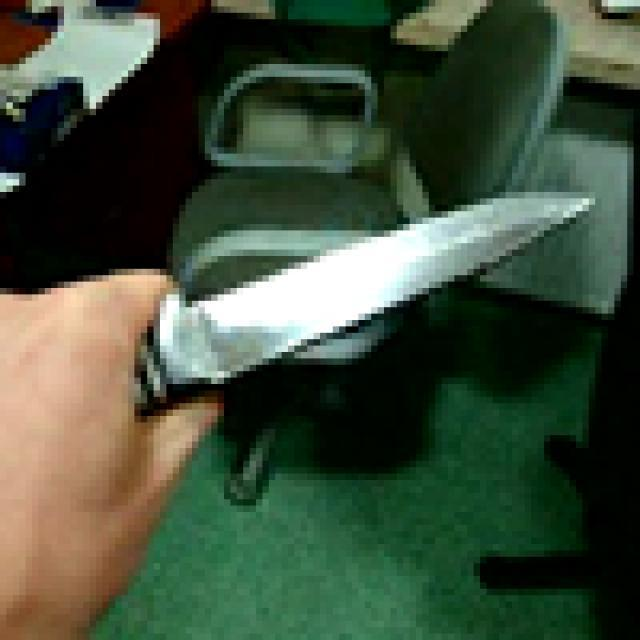knife: (63, 160, 614, 448)
